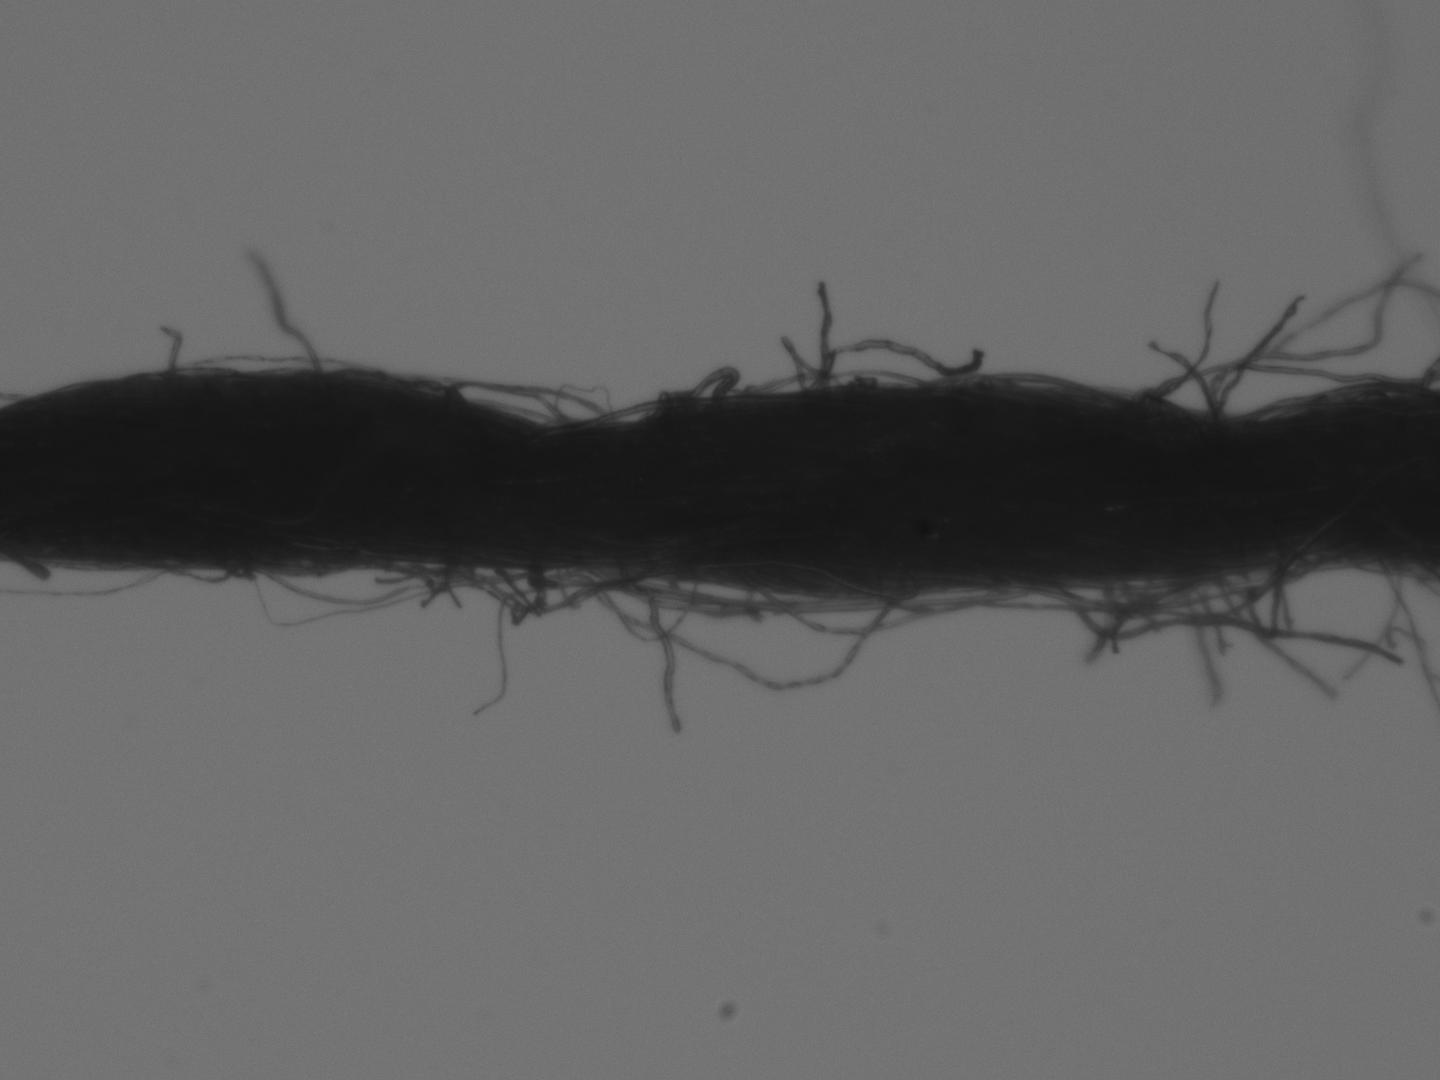loop_fiber: (1028, 552, 1295, 618), (748, 576, 1020, 640), (1142, 360, 1394, 415), (444, 563, 646, 628), (564, 565, 695, 643), (810, 337, 952, 391), (448, 378, 612, 424), (1250, 551, 1315, 641), (932, 370, 1119, 398), (736, 371, 926, 398), (172, 351, 355, 376), (365, 557, 472, 599), (644, 368, 737, 415), (143, 563, 240, 584)
protruding_fiber: (1217, 292, 1310, 415), (251, 246, 315, 379), (469, 566, 507, 725)
